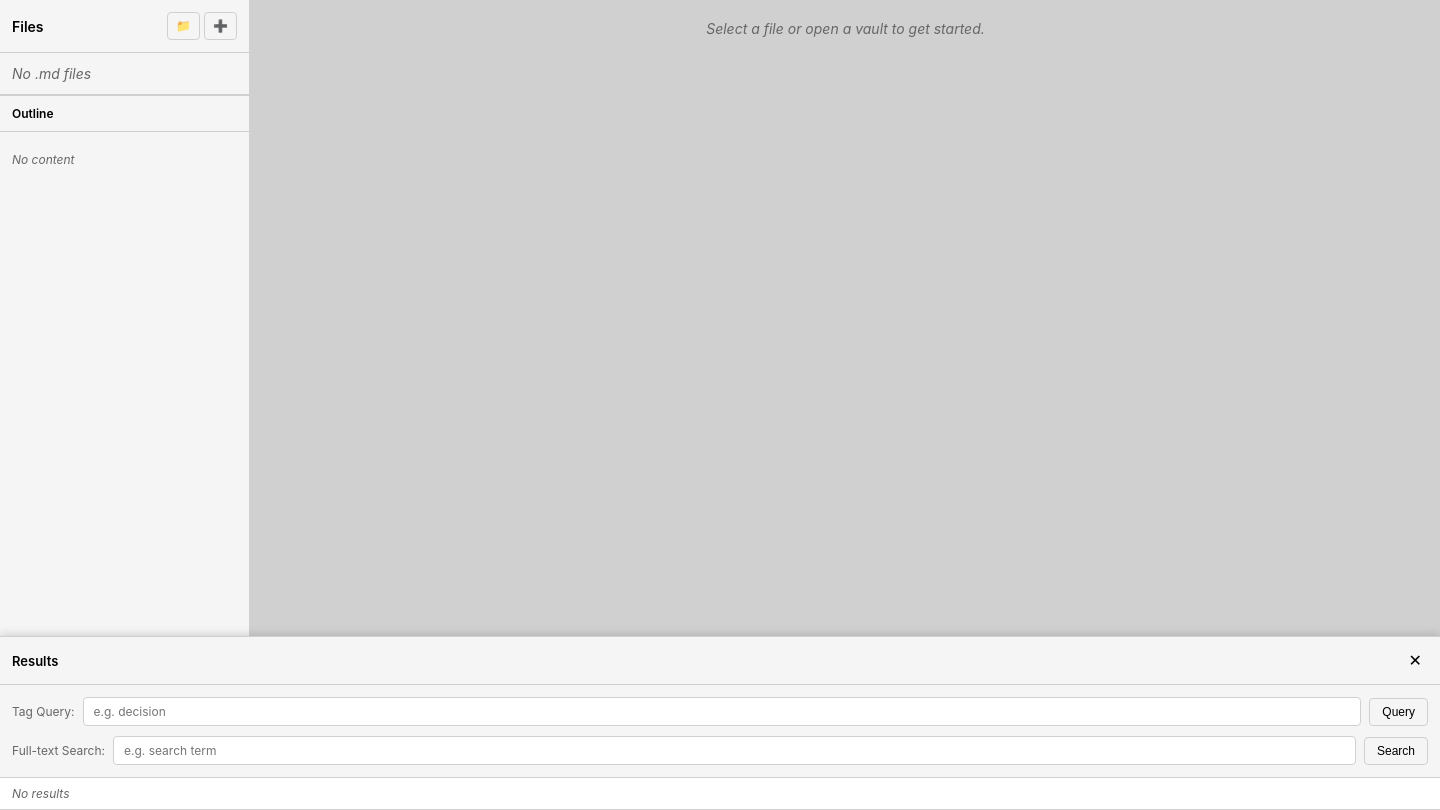
Test: AppShell tag query flow › runs tag query and selects a result through SearchAndQueryPanel
Type "decision" into the field labelled "Tag Query:" at (722, 712), box [82,697,1361,726]
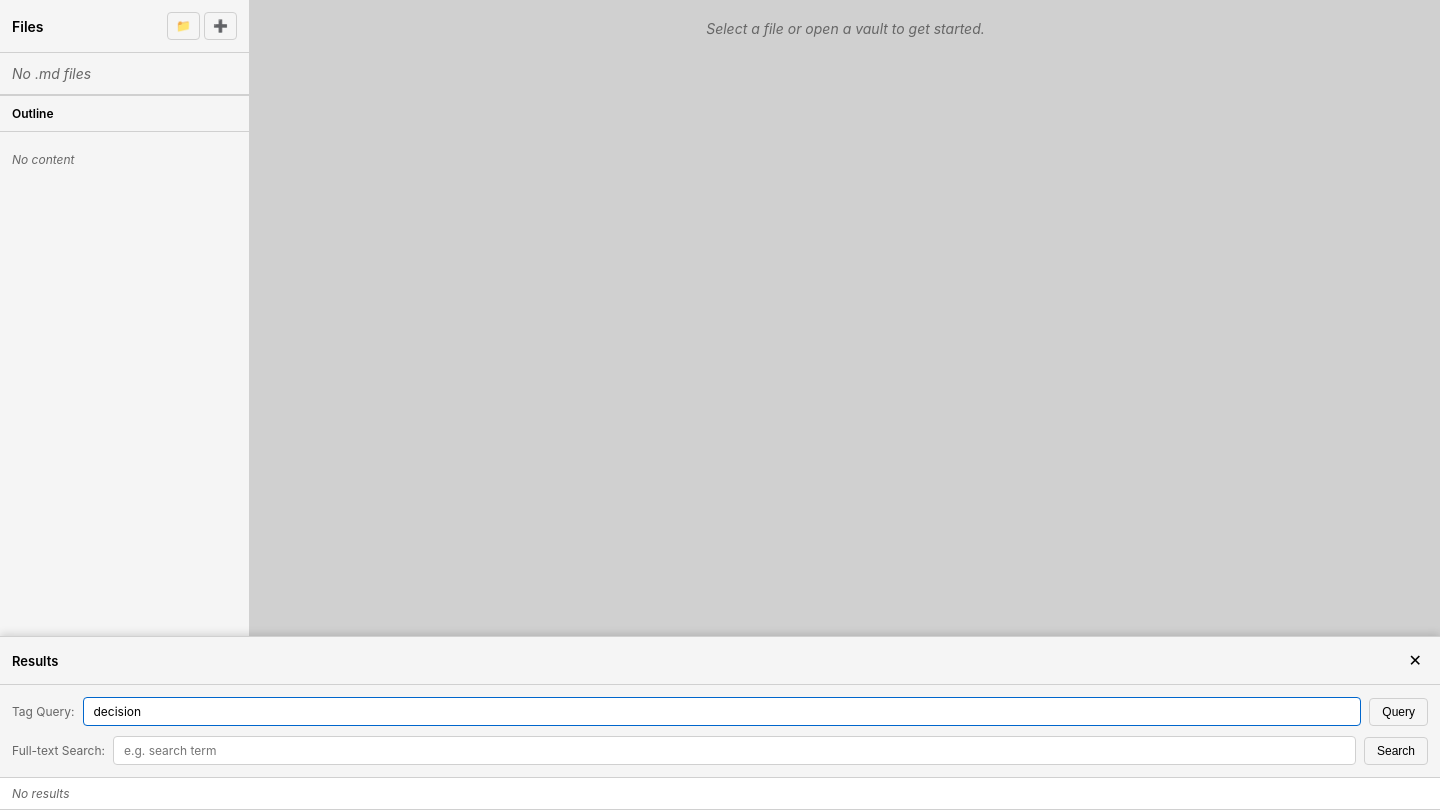
Click the button "Query" at (1399, 712), box [1369,698,1428,726]
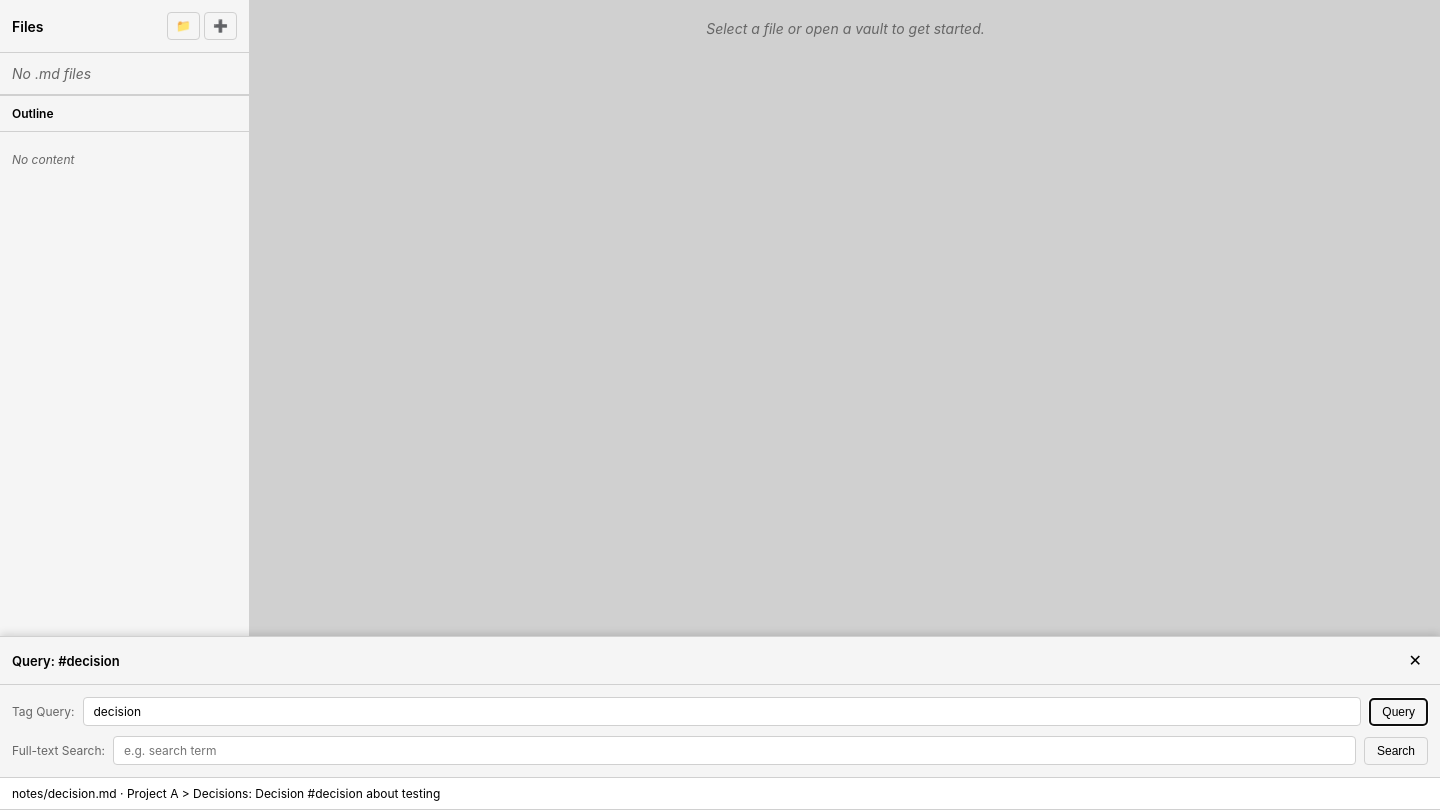
Click the 2nd list item at (720, 794), box [0,778,1439,809]
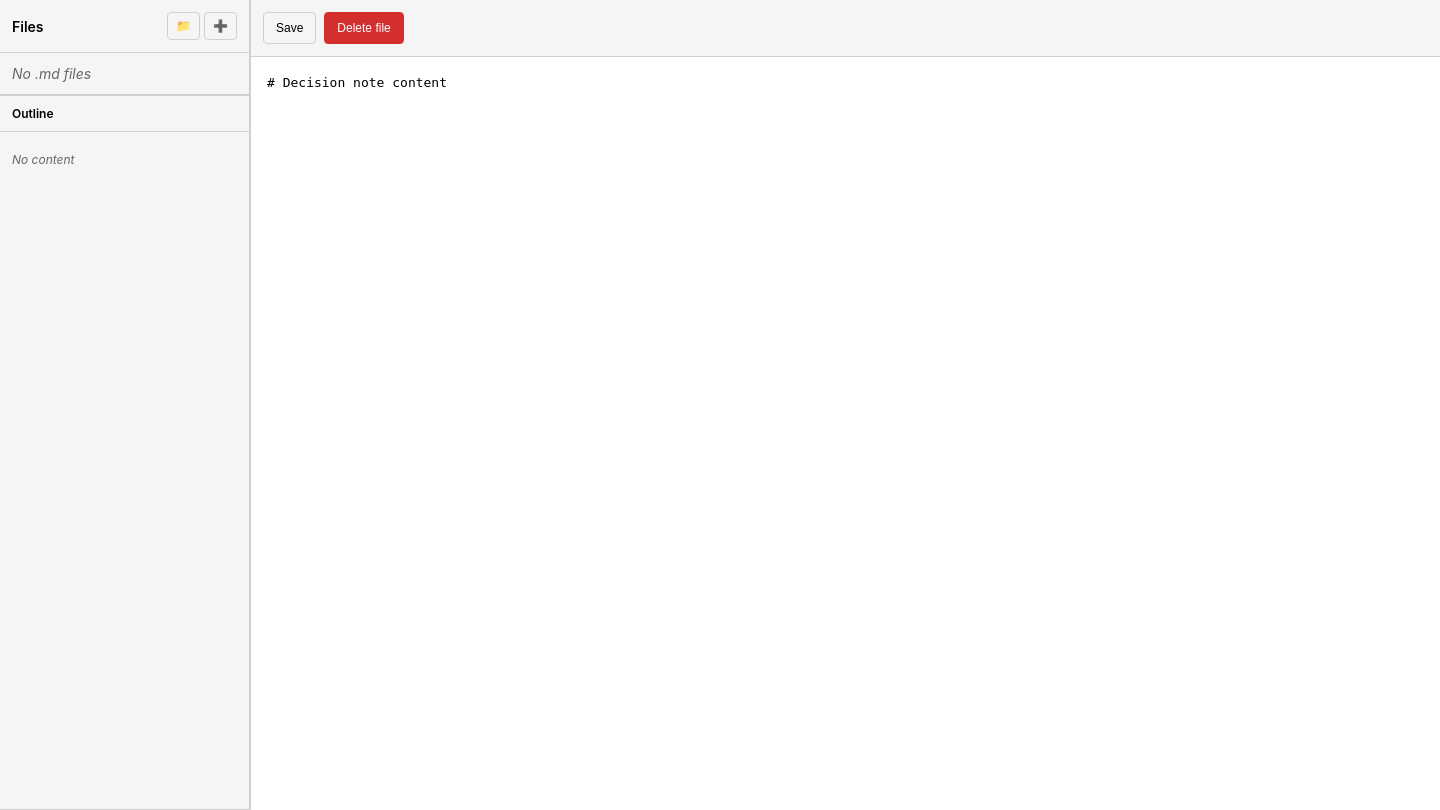
Expected: the text "Tag Query:" is not shown
Expected: the text box showing "# Decision note content" is shown
